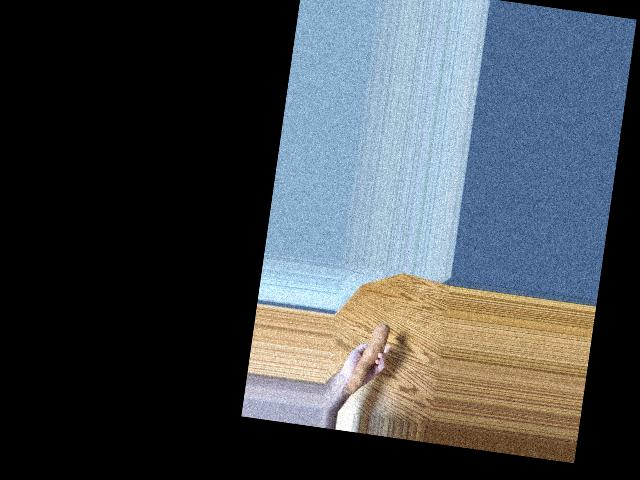sweet_potato: (343, 318, 391, 399)
